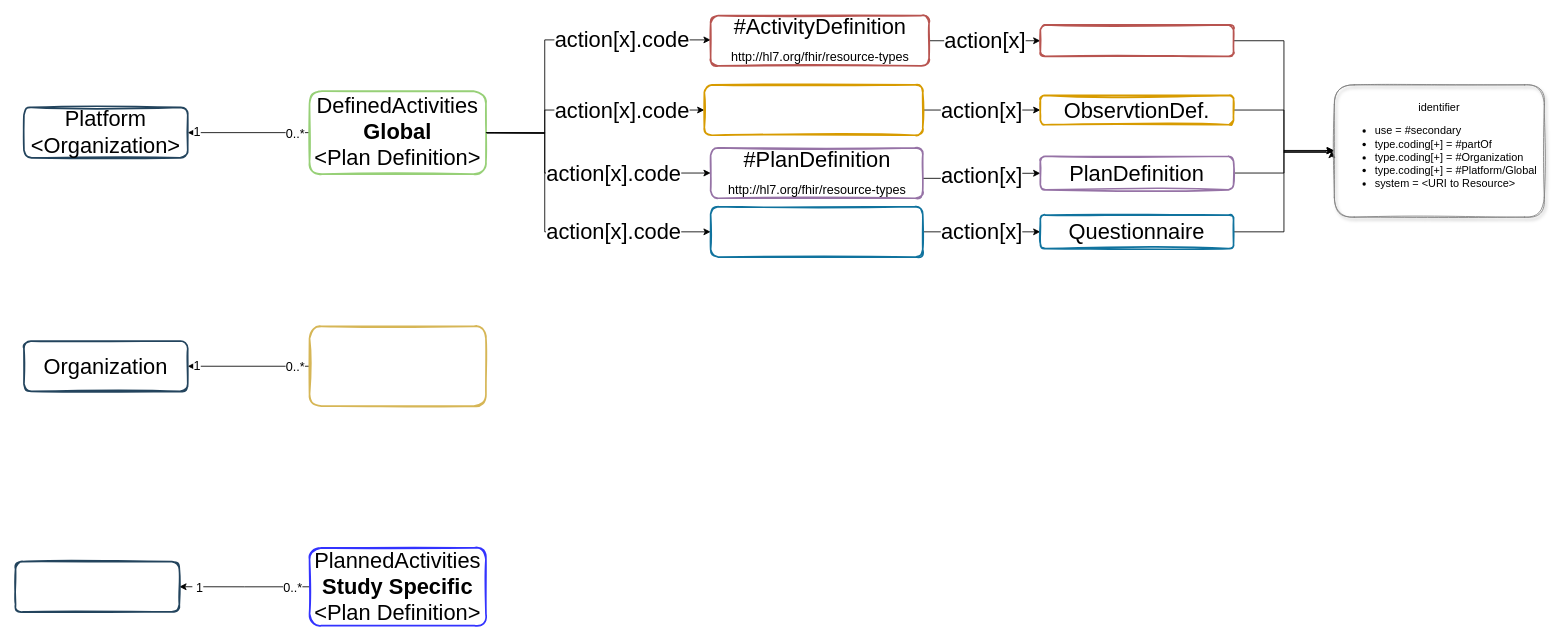
The diagram is 1564 pixels wide and 641 high, and some of its shapes have lost their labels. Each missing label, with the centre of its shape:
#ObservtionDefinition http://hl7.org/fhir/resource-types: point (813, 110)
#Questionnaire http://hl7.org/fhir/resource-types: point (816, 231)
ActivityDefinition: point (1136, 40)
DefinedActivities Tenant/Sponsor <Plan Definition>: point (397, 366)
ResearchStudy: point (97, 586)
